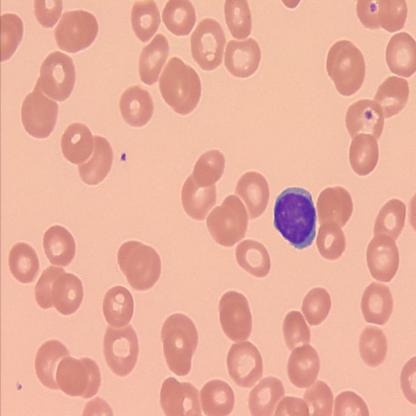Lymphocyte: (274, 188, 317, 250)
